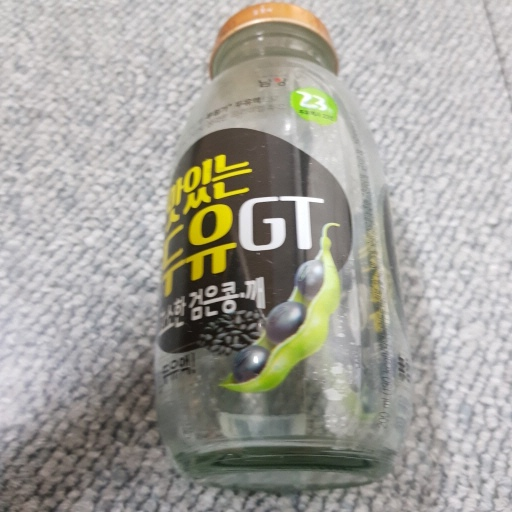Glass_4: (150, 1, 413, 490)
